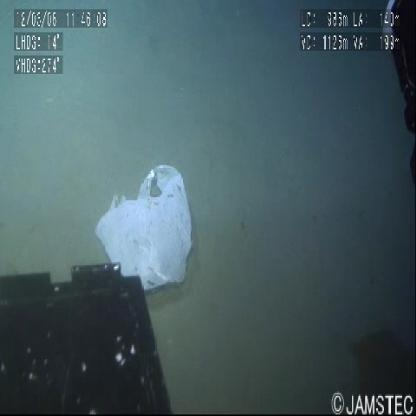Rov: (1, 248, 175, 416), (379, 6, 416, 152)
Rác: (84, 152, 210, 292)
